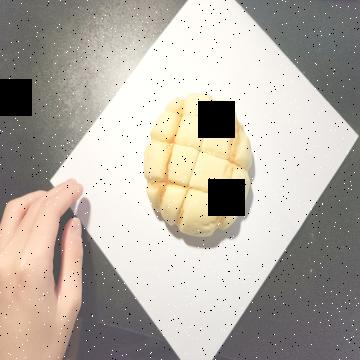melon_bread: (144, 92, 251, 237)
